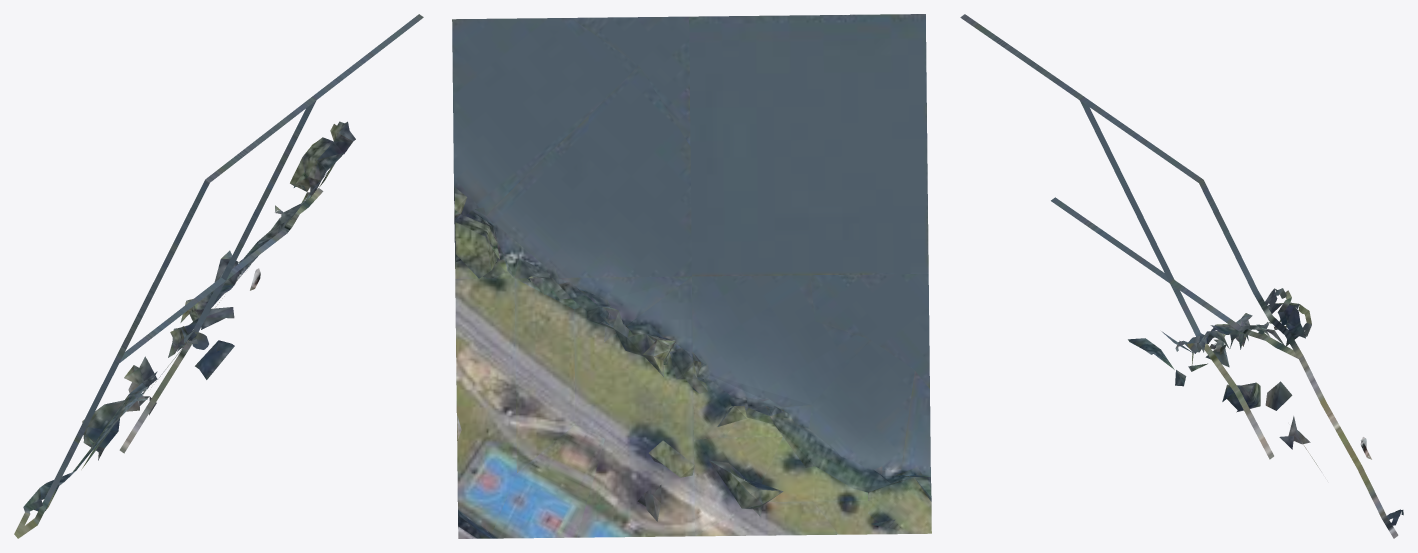
3 views of the same model, side by side, from view 1: azimuth 30°, elevation 25°; view 2: azimuth 150°, elevation 25°; view 3: azimuth 270°, elevation 25° (orthographic). The views are drawn at different scales.
Size of the model in its own units: 155 by 138 by 134.
Materials: 1 (1 with a texture image).
